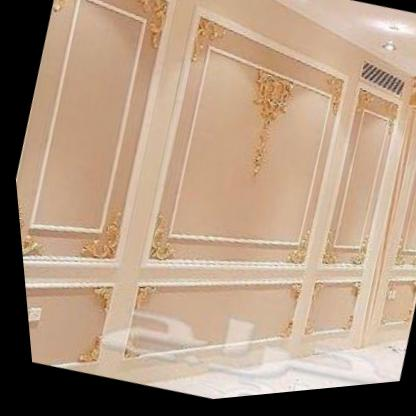Futec frame: (76, 0, 390, 410), (0, 0, 222, 384), (263, 75, 416, 397)
